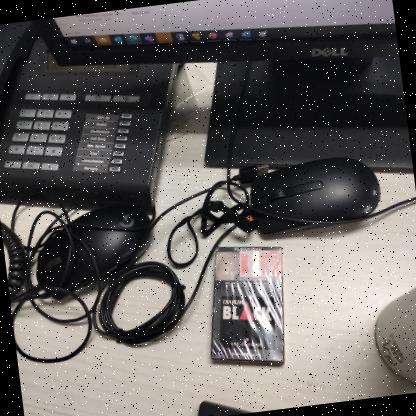bungkus rokok: (188, 230, 305, 380)
